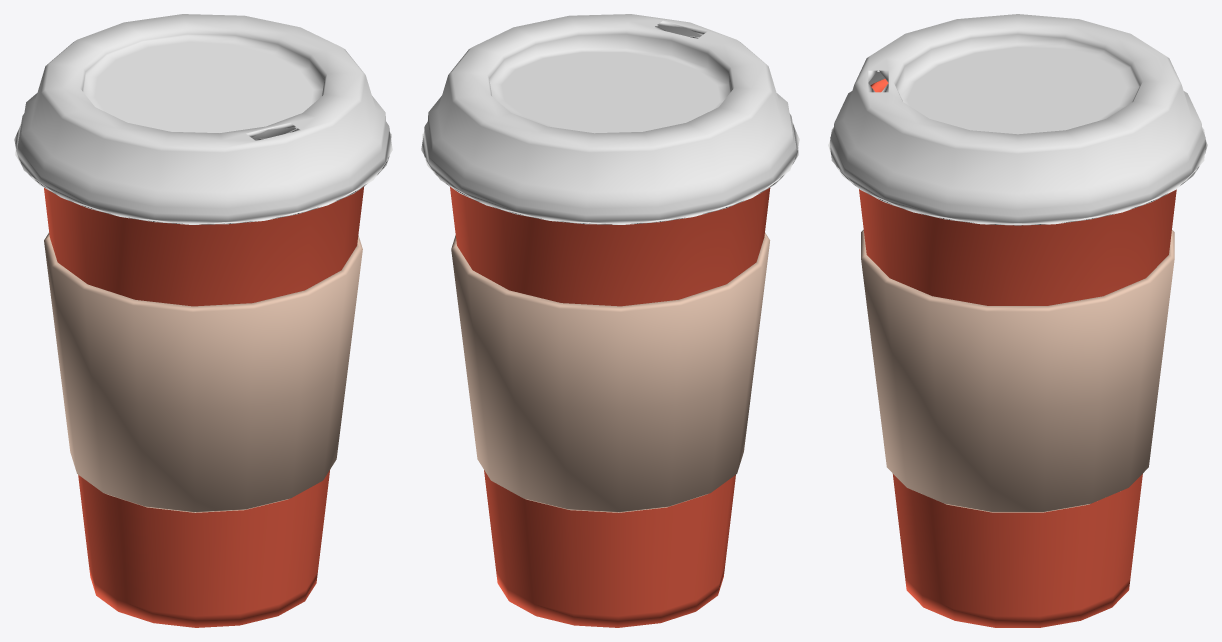
The model's file is low_poly_cup.fbx.
3 views of the same model, side by side, from view 1: azimuth 30°, elevation 25°; view 2: azimuth 150°, elevation 25°; view 3: azimuth 270°, elevation 25° (orthographic).
Visible parts, largest first — view 1: Lid, Sleeve, Cup; view 2: Lid, Sleeve, Cup; view 3: Lid, Sleeve, Cup.
Boxes of the visible parts, bbox=[...] form: Lid: bbox=[14, 14, 392, 224]; Sleeve: bbox=[44, 232, 362, 512]; Cup: bbox=[44, 186, 364, 627]; Lid: bbox=[421, 14, 799, 224]; Sleeve: bbox=[451, 232, 770, 512]; Cup: bbox=[450, 187, 770, 627]; Lid: bbox=[828, 14, 1207, 225]; Sleeve: bbox=[861, 230, 1174, 512]; Cup: bbox=[859, 79, 1176, 627].
Bounding box in the file's own units: 335 × 486 × 335.
